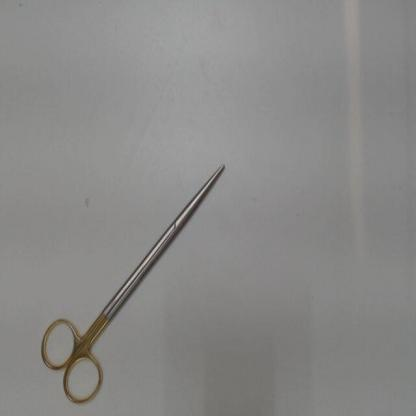7 Metzenbaum Scissors: (39, 163, 226, 407)
